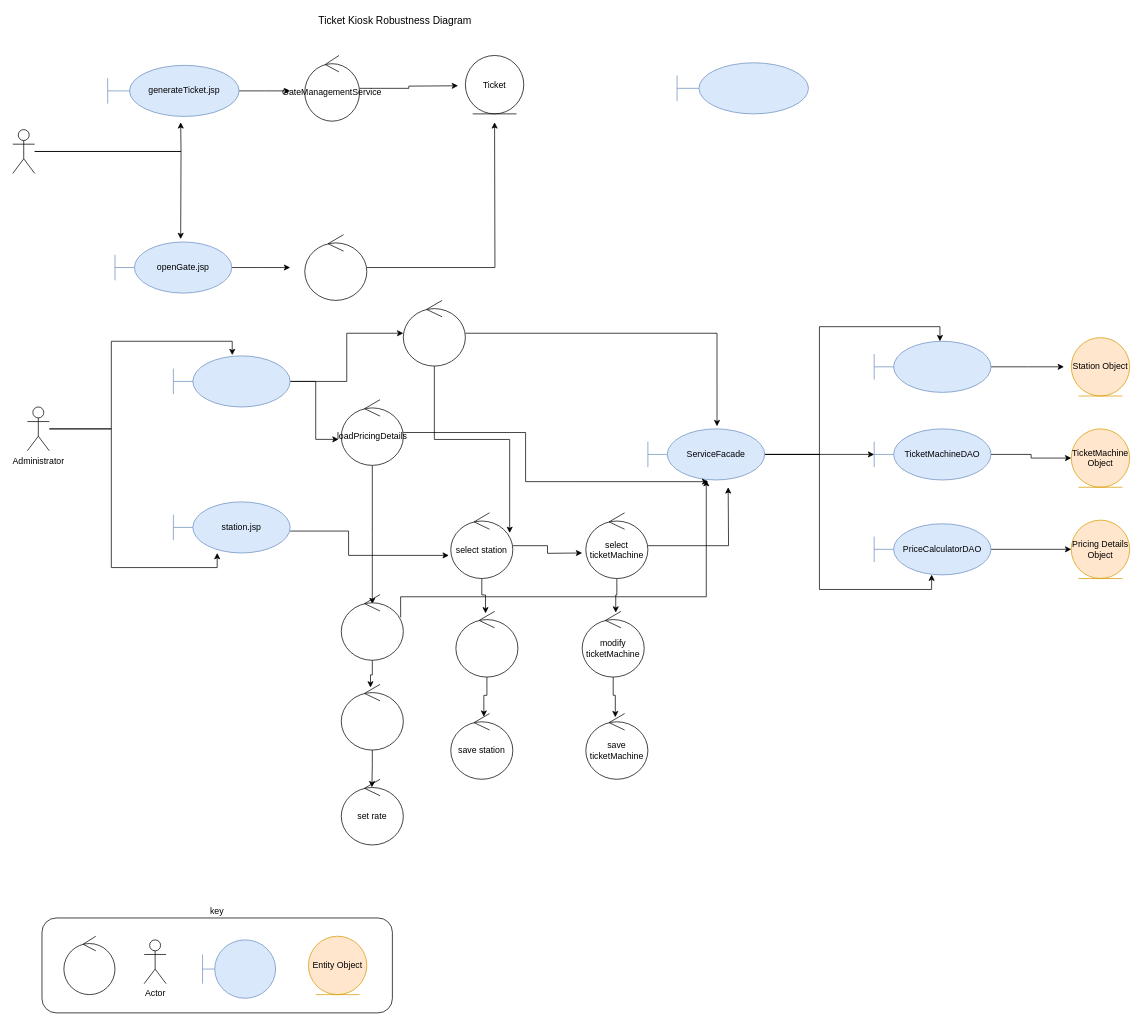
Image size: 1142x1026. Some labels were removed from this diagram. The shapes that lost their labels are listed below. From the top down, each one's centre as x and y in pixels, then its label:
At (x=742, y=88): "AsymmetricCryptography".
At (x=23, y=151): "User".
At (x=335, y=267): "GateEntryService".
At (x=434, y=333): "loadDefaultStations".
At (x=231, y=381): "stationList.jsp".
At (x=932, y=366): "StationDAO".
At (x=372, y=627): "set Pricing Details".
At (x=486, y=644): "modify station".
At (x=372, y=717): "set priceBand".
At (x=89, y=965): "Control Object".
At (x=239, y=968): "Boundary Object".
